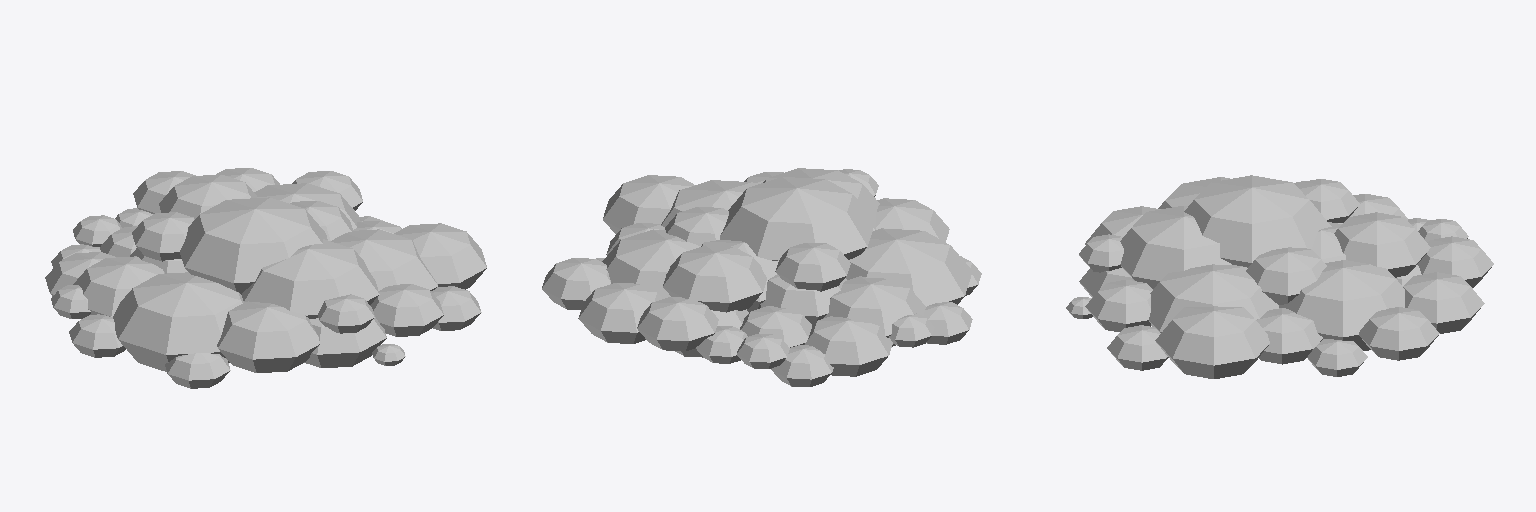
The model's file is cloud.obj.
3 views of the same model, side by side, from view 1: azimuth 30°, elevation 25°; view 2: azimuth 150°, elevation 25°; view 3: azimuth 270°, elevation 25° (orthographic).
Parts seen in each view (by area): view 1: cloud; view 2: cloud; view 3: cloud.
Boxes of the visible parts, x1=… form: cloud: x1=45, y1=168, x2=486, y2=388; cloud: x1=542, y1=168, x2=981, y2=386; cloud: x1=1066, y1=175, x2=1493, y2=378.
Size of the model in its own units: 18.61 by 5.64 by 17.94.